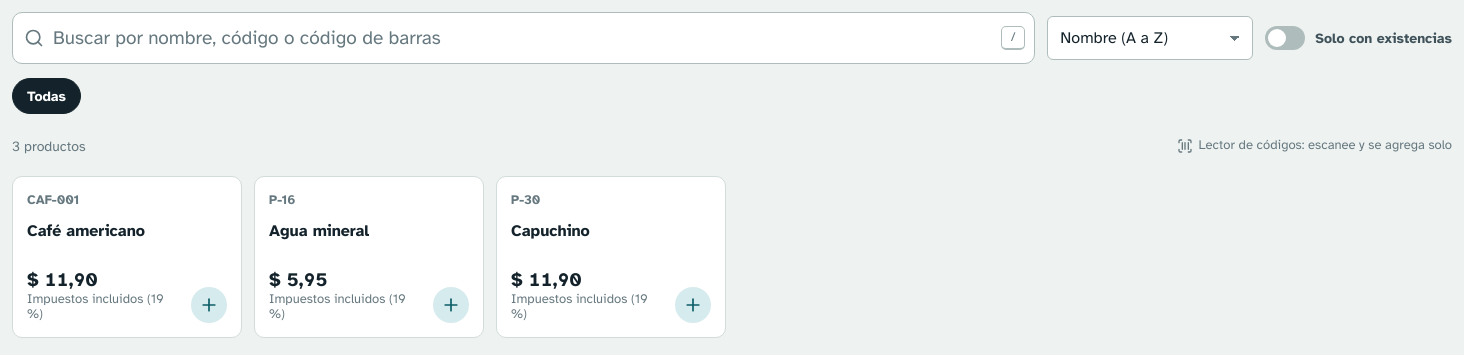
Test: Búsqueda del catálogo › se actualiza mientras se escribe, sin presionar Enter
Expected: the text "Café americano" is shown, [27, 221, 145, 242]
Expected: the text "Agua mineral" is shown, [269, 221, 369, 242]
Type "agua" into the search field named "Buscar productos".
click(524, 38); type("agua")  # box [12, 12, 1035, 64]
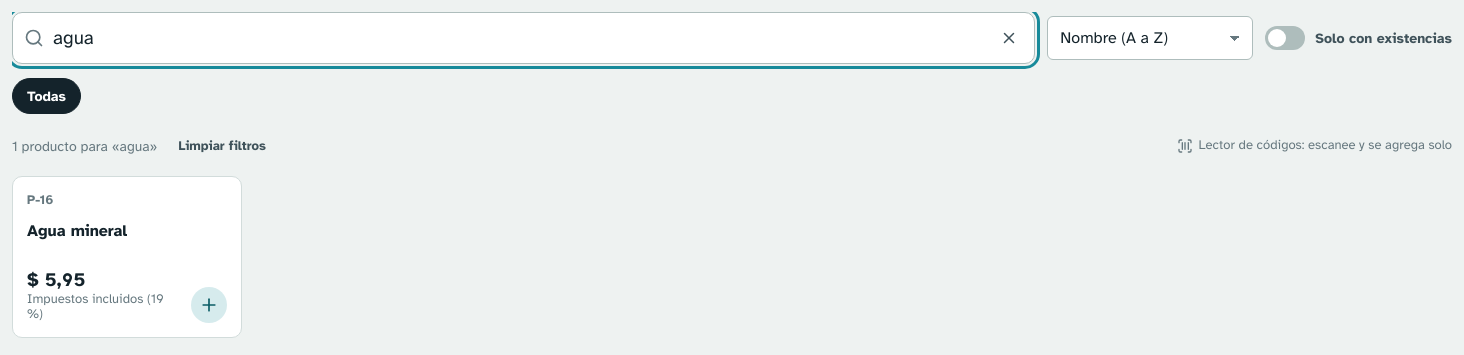
Expected: the text "Agua mineral" is shown, [27, 221, 127, 242]
Result: the button "Café americano" is gone
